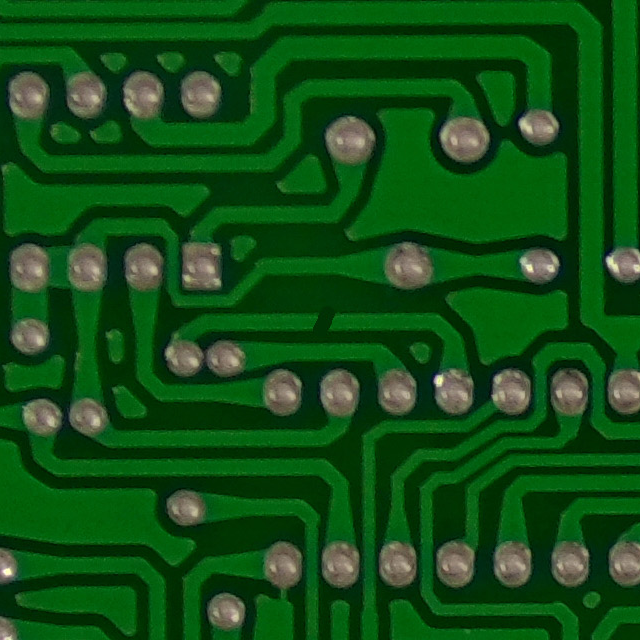open_circuit: (296, 301, 344, 340)
